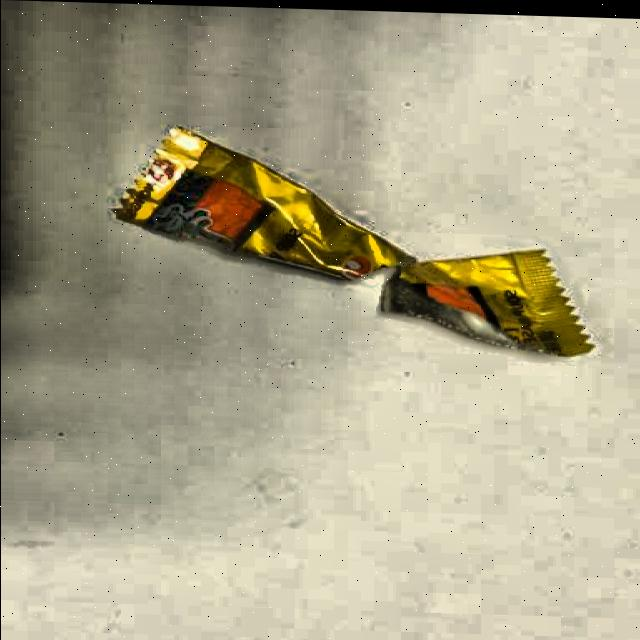trash: (104, 119, 598, 367)
